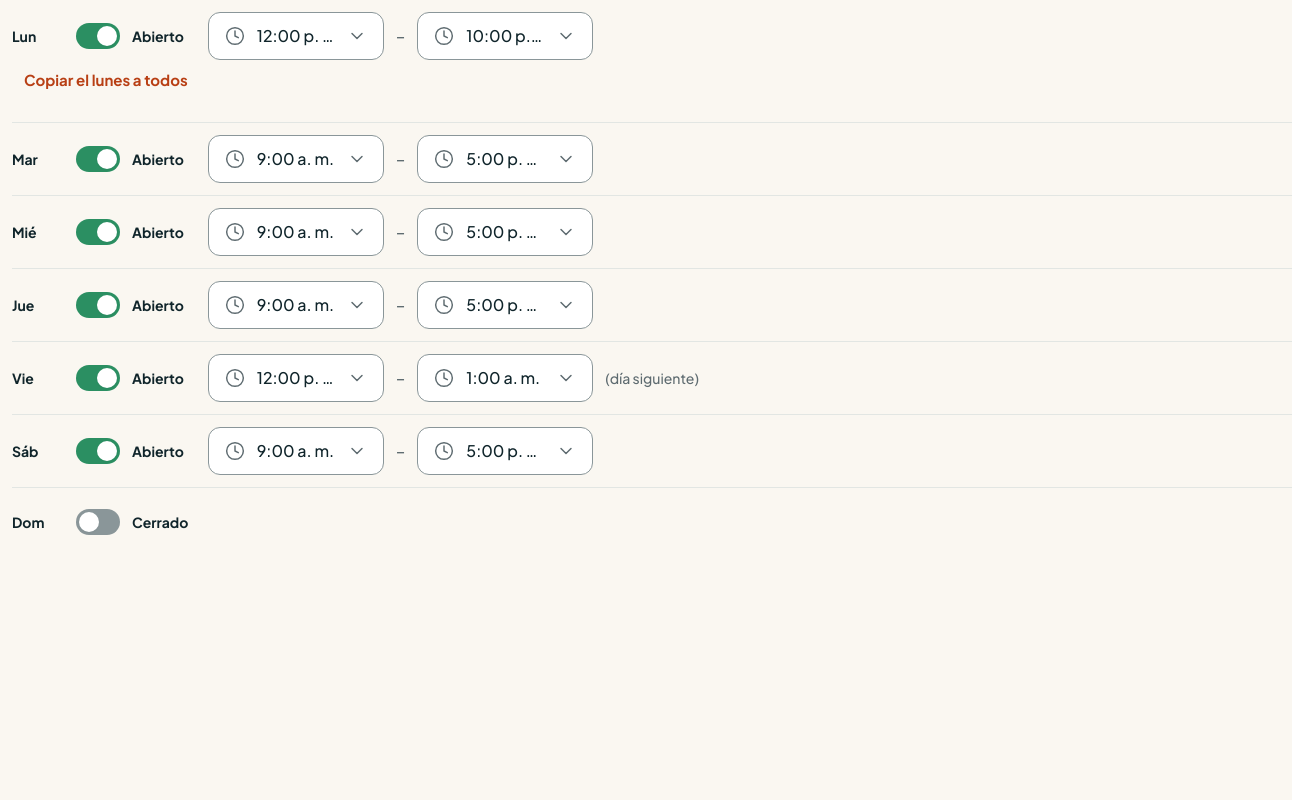
Test: HoursEditor › a closed day is one row whose switch says "Cerrado"; the switch opens it
What coordinates should you click on to do the following:
click the switch named "Domingo"
I would click on:
 (132, 522)
Its box is 76,500 -> 188,544.
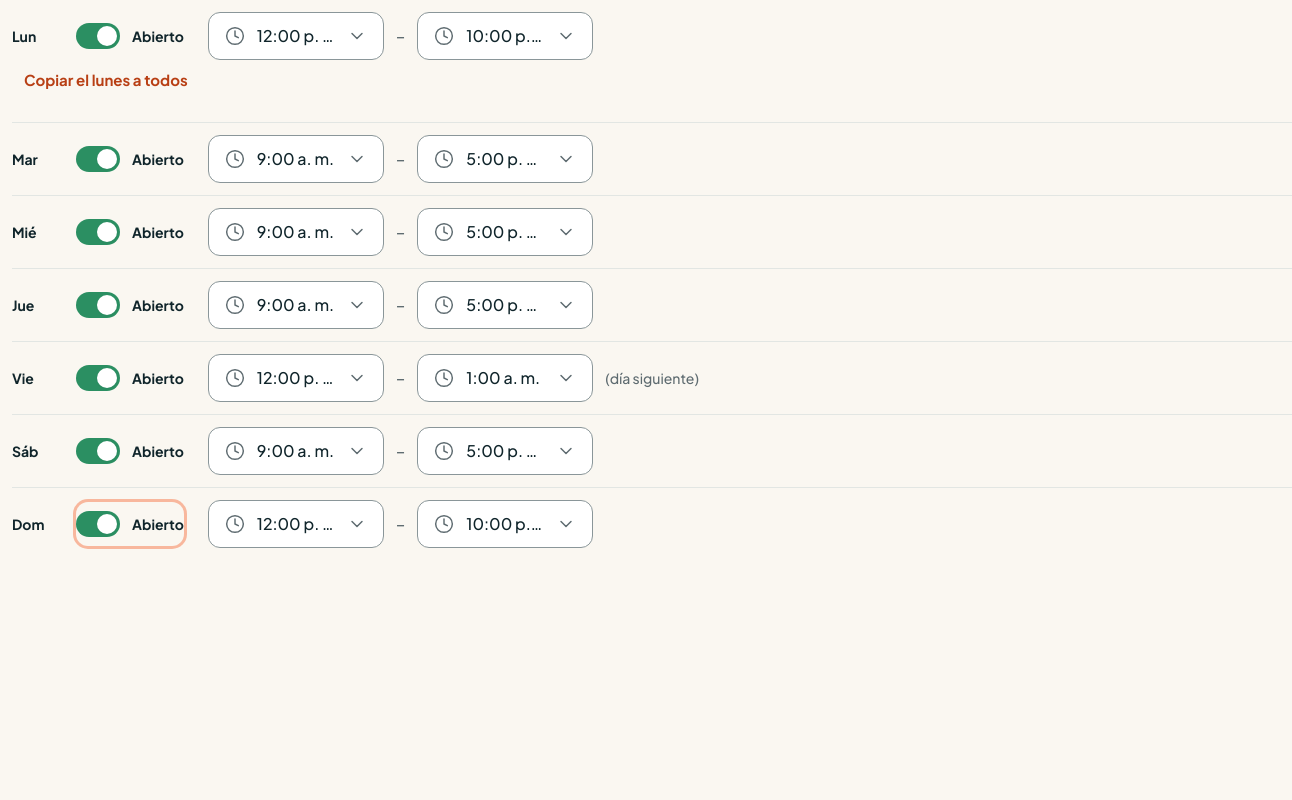
Result: the dropdown named "Apertura del domingo" is shown at 208,500 -> 384,548
